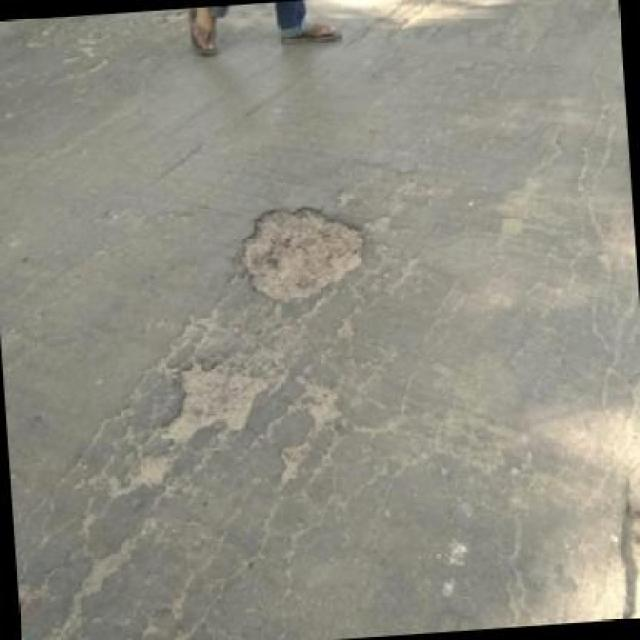pothole: (230, 199, 368, 307), (145, 355, 270, 442)
